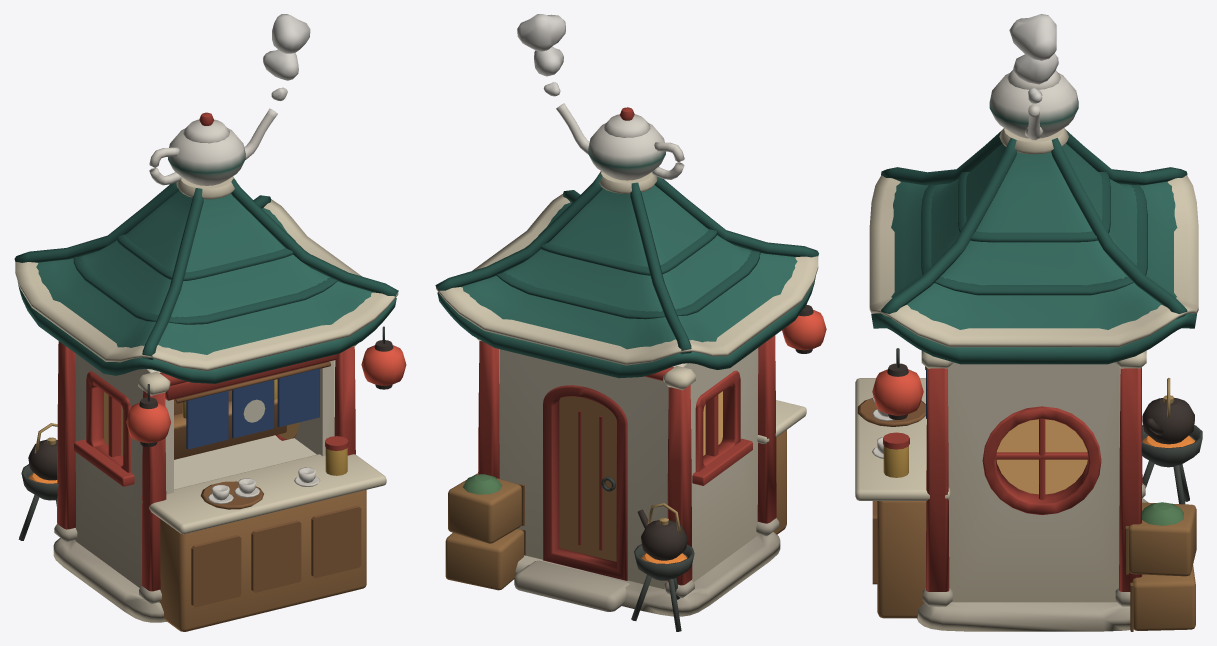
File: BLD_Tea_Kiosk_A.fbx
3 renders of one model, left to right at view 1: azimuth 30°, elevation 25°; view 2: azimuth 150°, elevation 25°; view 3: azimuth 270°, elevation 25°, orthographic. The views are drawn at different scales.
Parts seen in each view (by area): view 1: BLD_Tea_Kiosk_A_Body_LOD0, BLD_Tea_Kiosk_A_Noren_LOD0, BLD_Tea_Kiosk_A_Puff3_LOD0, BLD_Tea_Kiosk_A_Puff2_LOD0; view 2: BLD_Tea_Kiosk_A_Body_LOD0, BLD_Tea_Kiosk_A_Puff3_LOD0, BLD_Tea_Kiosk_A_Puff2_LOD0; view 3: BLD_Tea_Kiosk_A_Body_LOD0, BLD_Tea_Kiosk_A_Puff3_LOD0, BLD_Tea_Kiosk_A_Puff2_LOD0.
Part boxes in pixels (x1=…): BLD_Tea_Kiosk_A_Body_LOD0: x1=14, y1=108, x2=406, y2=631; BLD_Tea_Kiosk_A_Noren_LOD0: x1=175, y1=361, x2=330, y2=449; BLD_Tea_Kiosk_A_Puff3_LOD0: x1=272, y1=14, x2=310, y2=53; BLD_Tea_Kiosk_A_Puff2_LOD0: x1=263, y1=49, x2=298, y2=80; BLD_Tea_Kiosk_A_Body_LOD0: x1=435, y1=103, x2=826, y2=631; BLD_Tea_Kiosk_A_Puff3_LOD0: x1=517, y1=14, x2=565, y2=51; BLD_Tea_Kiosk_A_Puff2_LOD0: x1=534, y1=46, x2=563, y2=76; BLD_Tea_Kiosk_A_Body_LOD0: x1=855, y1=69, x2=1202, y2=631; BLD_Tea_Kiosk_A_Puff3_LOD0: x1=1009, y1=14, x2=1056, y2=60; BLD_Tea_Kiosk_A_Puff2_LOD0: x1=1013, y1=53, x2=1058, y2=84.
Size of what is drawn, in the model's own units: 2.3 by 4.18 by 2.19.
